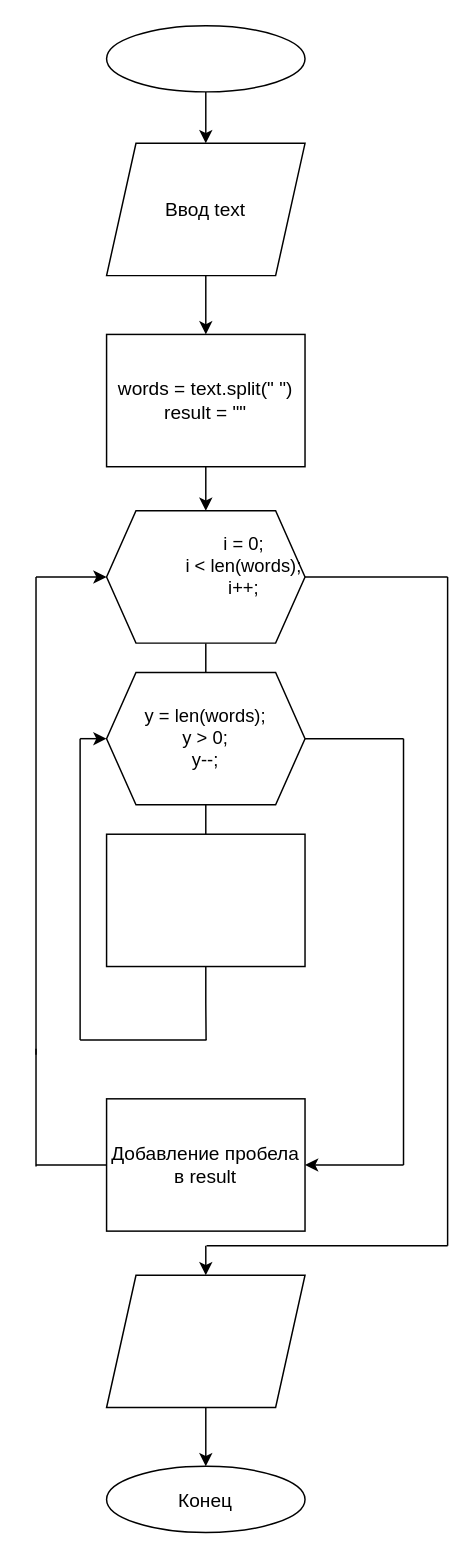
Image size: 475x1558. Some labels were removed from this diagram. Each missing label, with the centre of its shape:
Вывод result: the point at 205,1341
Добавление words[i][y - 1] в result: the point at 205,900
Начало: the point at 205,58
